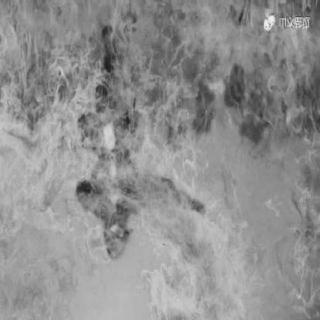Fire: (1, 4, 312, 318)
